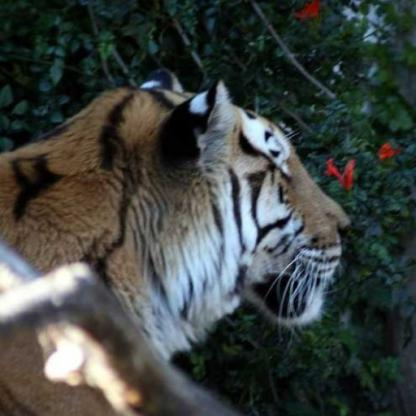Tiger: (0, 56, 376, 415)
